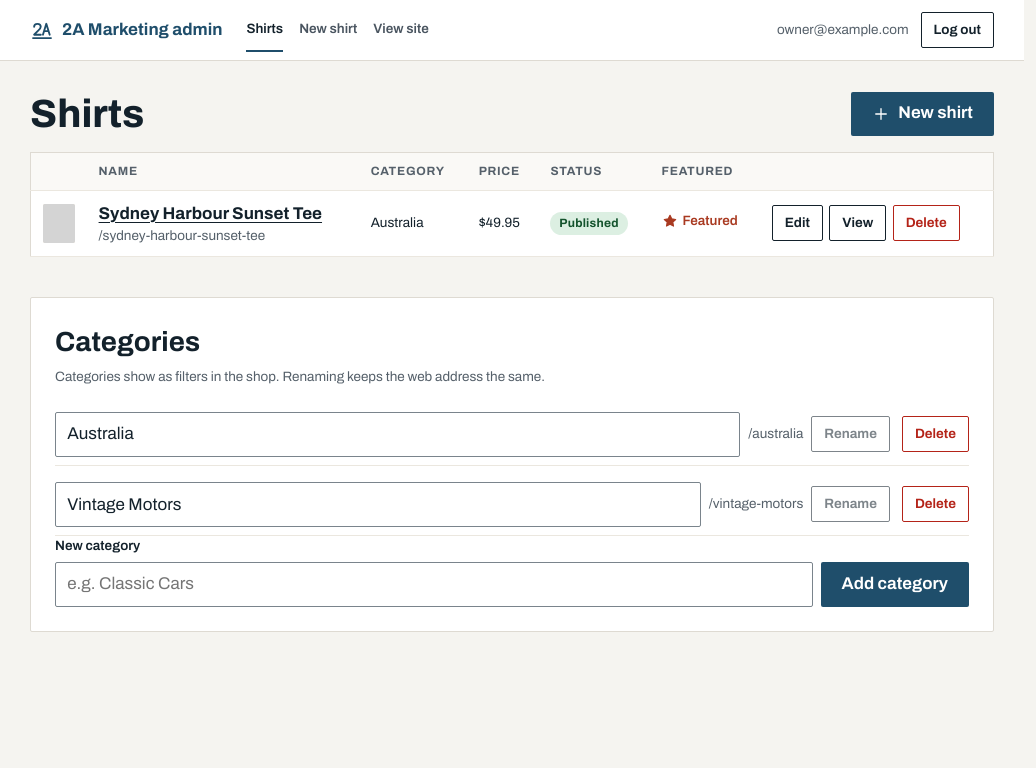
Scenario: admin route guard › asks for confirmation before deleting a shirt
Click the button with aria-label "Delete Sydney Harbour Sunset Tee" at (926, 223), box [893,205,960,241]
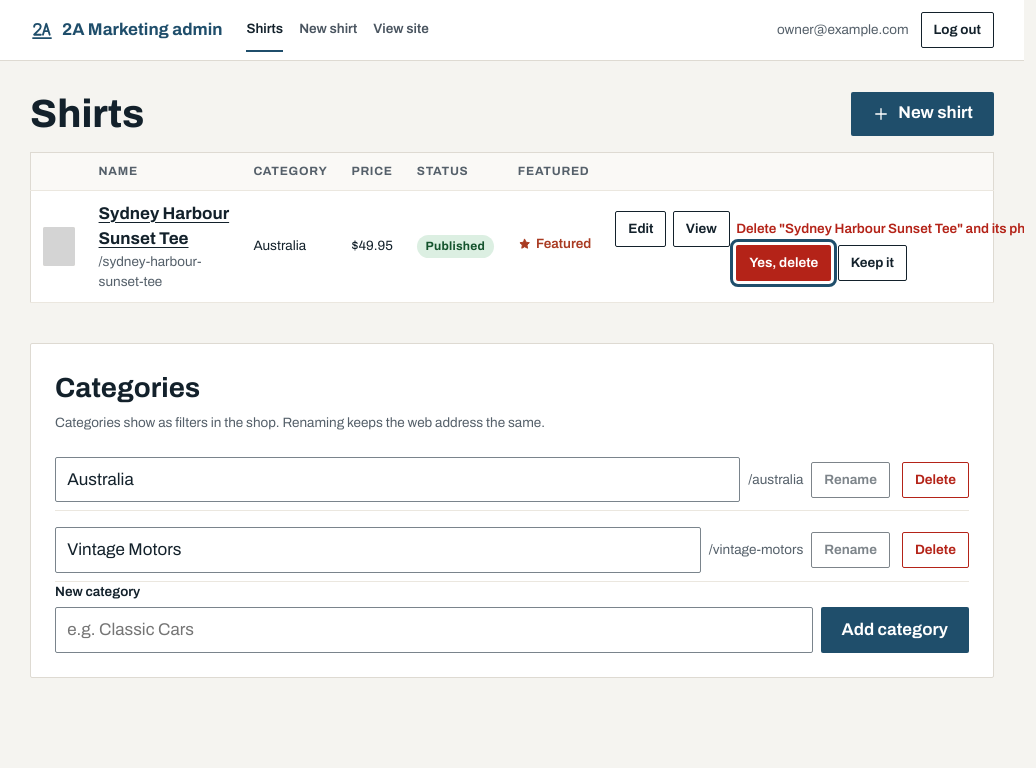
Click the button "Yes, delete" at (784, 263), box [736,245,831,281]
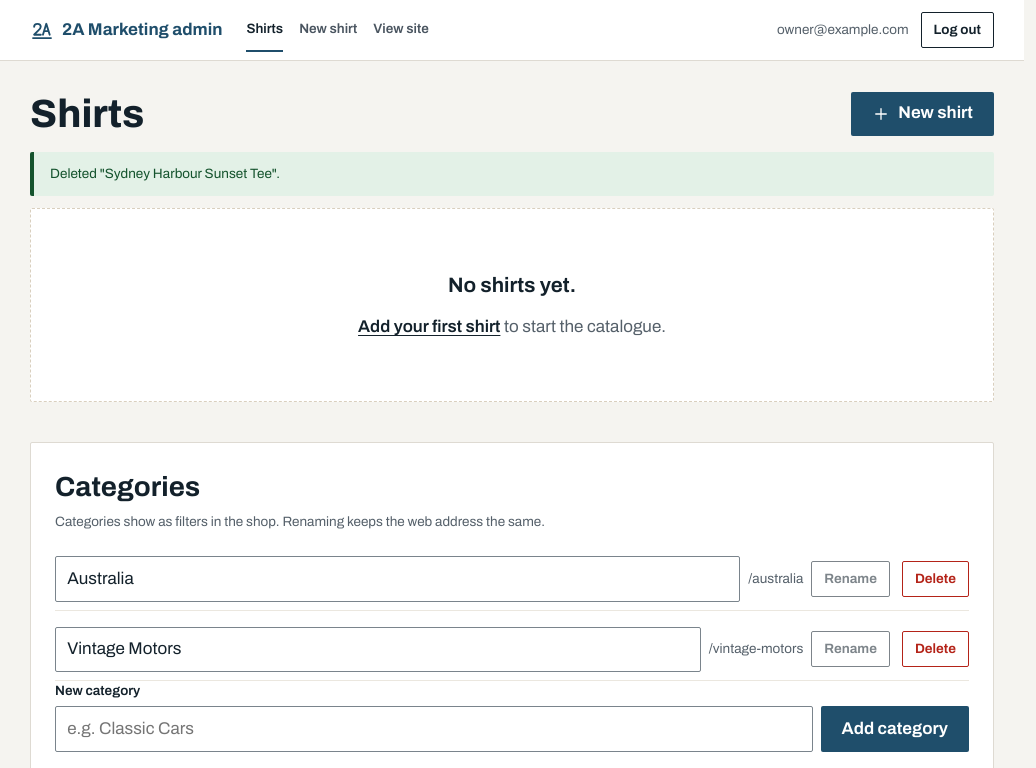
Expected: the text "Deleted \"Sydney Harbour Sunset Tee\"." is shown, [30,152,994,196]
